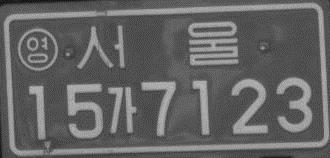1: (188, 79, 215, 137), (24, 83, 49, 140)
2: (229, 77, 269, 137)
3: (276, 76, 313, 133)
5: (65, 81, 104, 139)
7: (139, 79, 178, 138)
가: (105, 85, 138, 137)
서울_D: (74, 19, 240, 72)
영: (16, 26, 59, 72)
